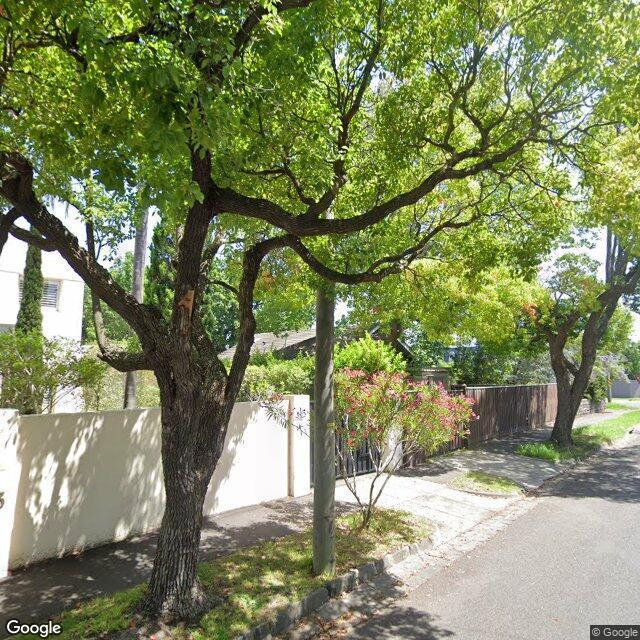timber-pole: (314, 276, 338, 572)
